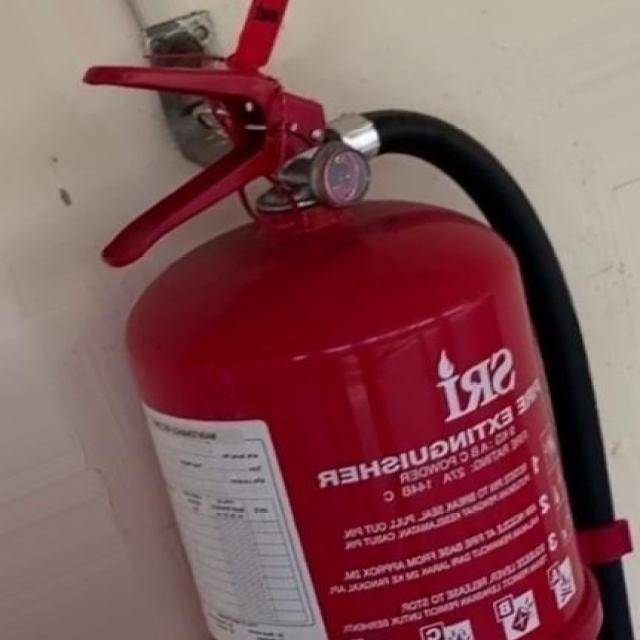fire_extinguisher: (72, 1, 638, 639)
